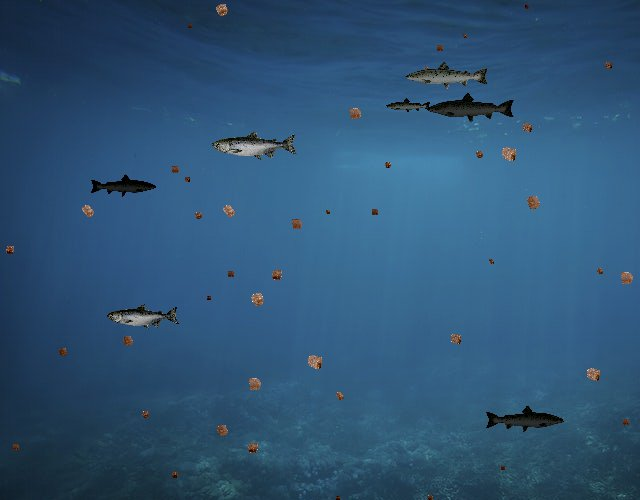Fish: (426, 91, 516, 124), (404, 60, 490, 91), (212, 130, 298, 161), (484, 405, 565, 434), (107, 304, 180, 330), (90, 173, 158, 198), (385, 97, 432, 114)
Pellet: (241, 371, 268, 398), (343, 101, 368, 126), (242, 437, 264, 459), (368, 205, 382, 219), (181, 174, 194, 187), (424, 491, 437, 500), (460, 30, 470, 40)
